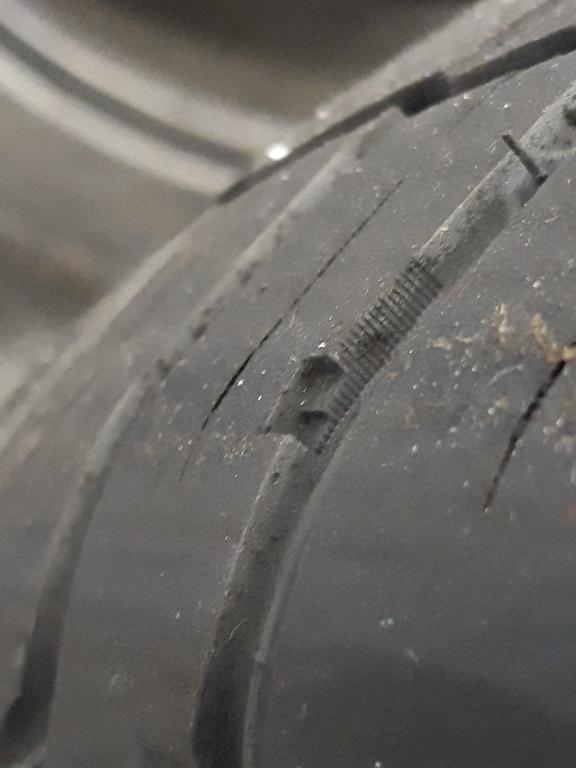temoin:50: (250, 308, 392, 469)
